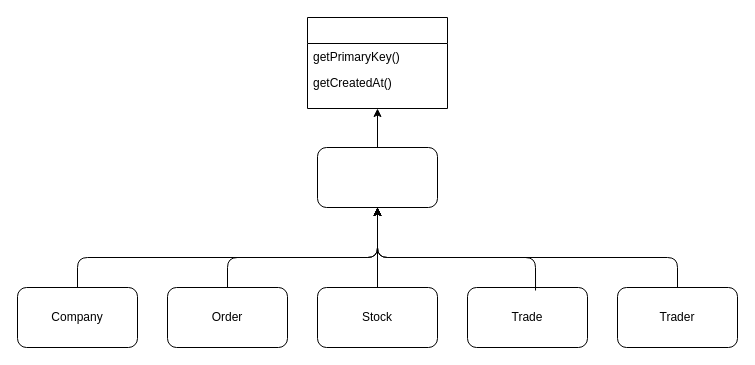
This 755x365 diagram has some shape labels left out. The box of each missing label's shape, as (x1, y1, x2, y2) in pixels:
EntityAbstract: (316, 146, 438, 208)
EntityInterface: (306, 16, 448, 108)
